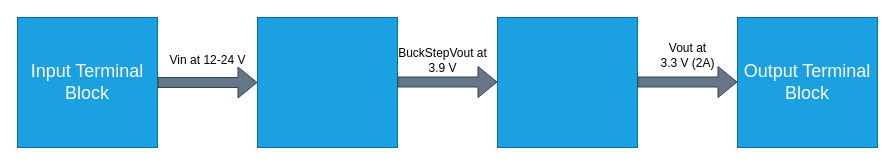
The diagram is 895 pixels wide and 165 high, and some of its shapes have lost their labels. Here are the shapes that lost their labels. From the top down, the centre of each, then its label:
At point (327, 82): "Buck Converter".
At point (567, 82): "LDO".
